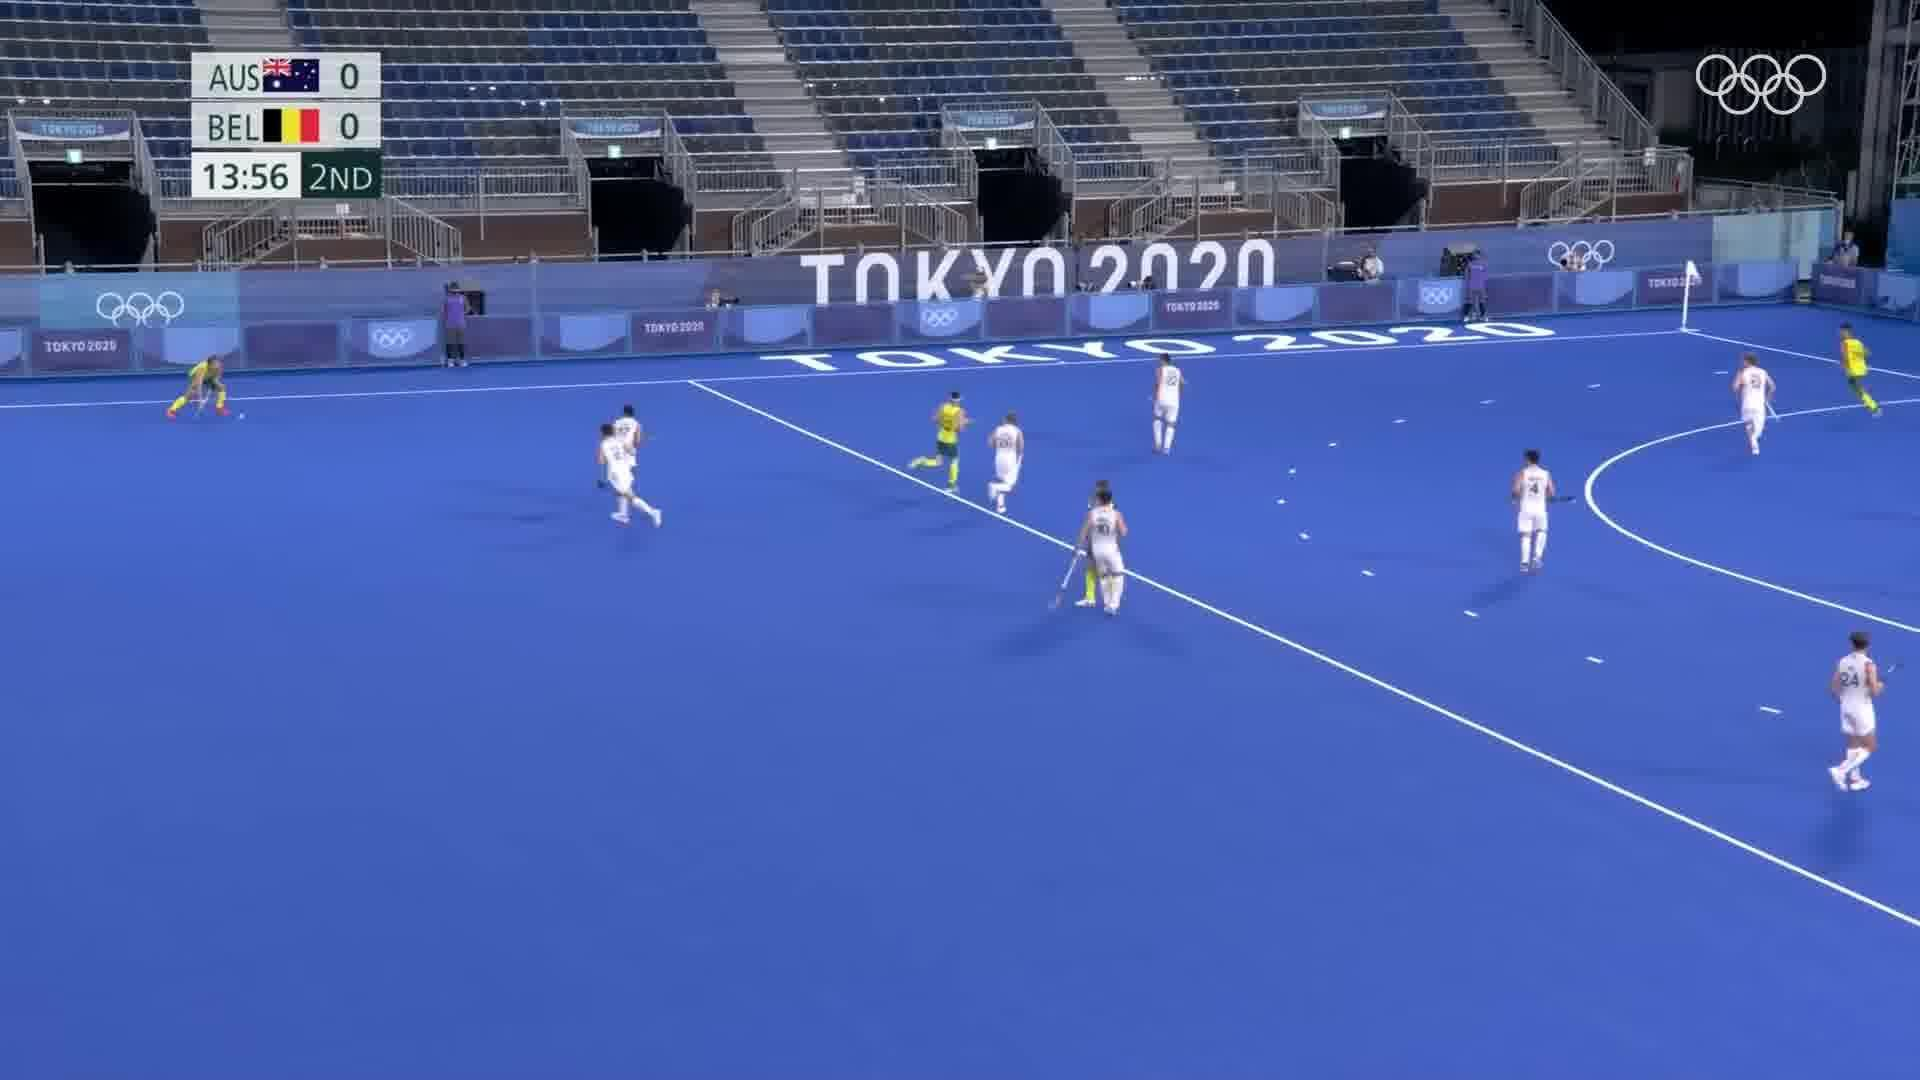ball: (233, 406, 251, 425)
